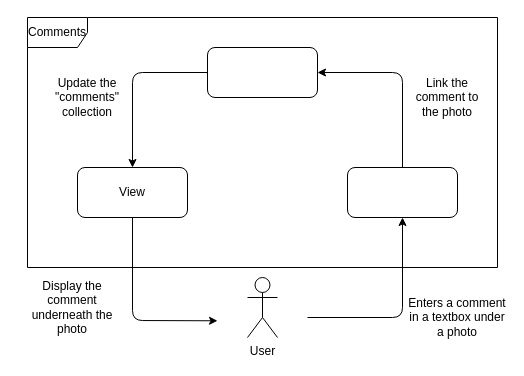
Some shapes in this 524 by 376 pixel diagram are drawn without their labels. Here are the shapes that lost their labels. From the top down, the centre of each, then its label:
point 262,72: Model
point 402,192: Controller
